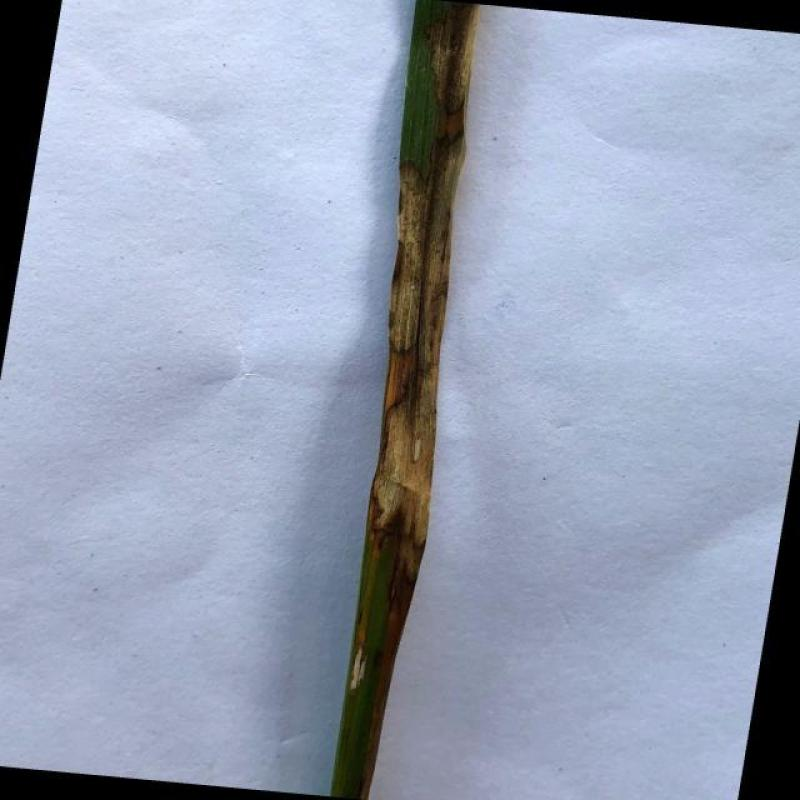Bacterial_Leaf_Blight: (366, 135, 475, 574), (430, 0, 476, 119), (347, 606, 382, 688)
